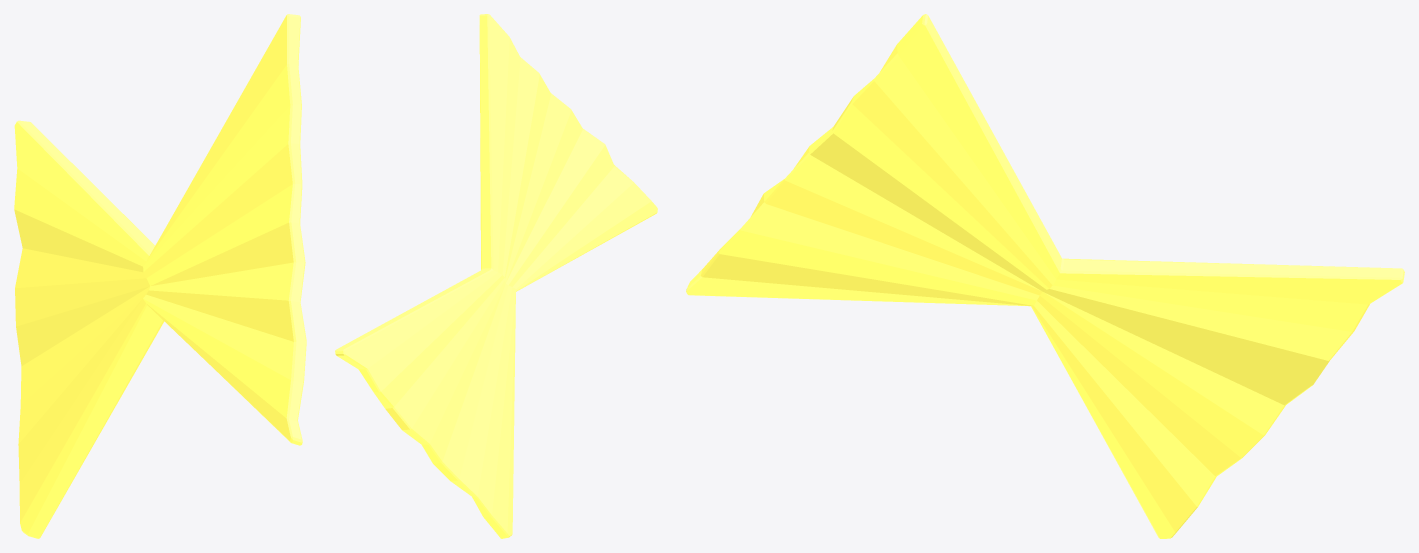
3 views of the same model, side by side, from view 1: azimuth 30°, elevation 25°; view 2: azimuth 150°, elevation 25°; view 3: azimuth 270°, elevation 25° (orthographic). The views are drawn at different scales.
Parts seen in each view (by area): view 1: Plane.008; view 2: Plane.008; view 3: Plane.008.
Part boxes in pixels (bbox=[...]): Plane.008: bbox=[14, 14, 306, 538]; Plane.008: bbox=[335, 14, 657, 538]; Plane.008: bbox=[686, 14, 1404, 538].
Bounding box in the file's own units: 0.4951 × 1.71 × 1.87.
